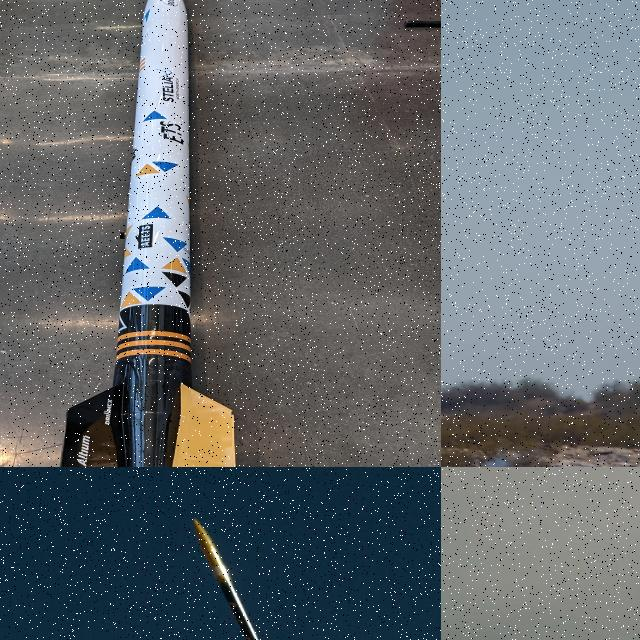Rocket: (59, 0, 236, 467), (190, 516, 306, 640)
